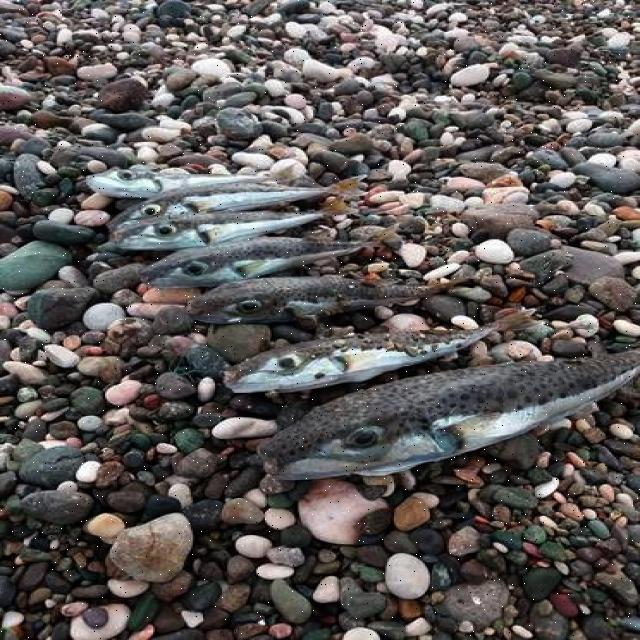Balik: (260, 350, 639, 479), (224, 313, 531, 392), (111, 177, 361, 229), (188, 276, 449, 323), (142, 237, 363, 287), (111, 212, 325, 250), (87, 168, 266, 198)
